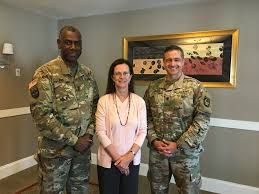uniform: (27, 53, 92, 191), (143, 72, 205, 189)
